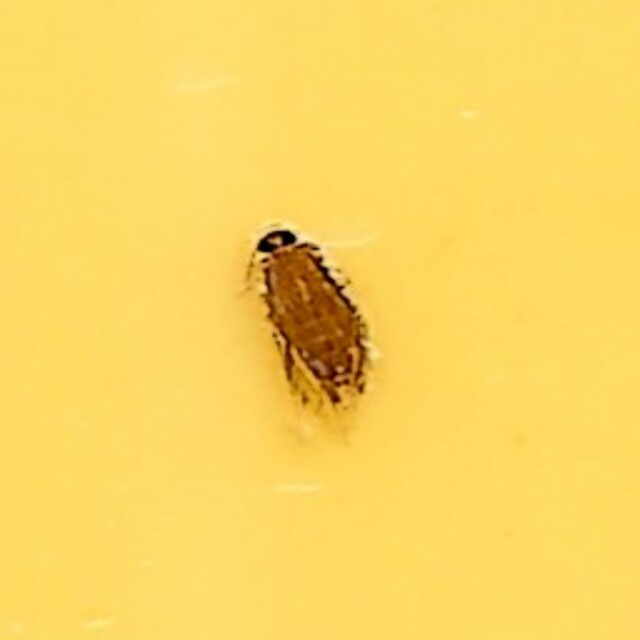Trichoptera: (250, 212, 390, 428)
